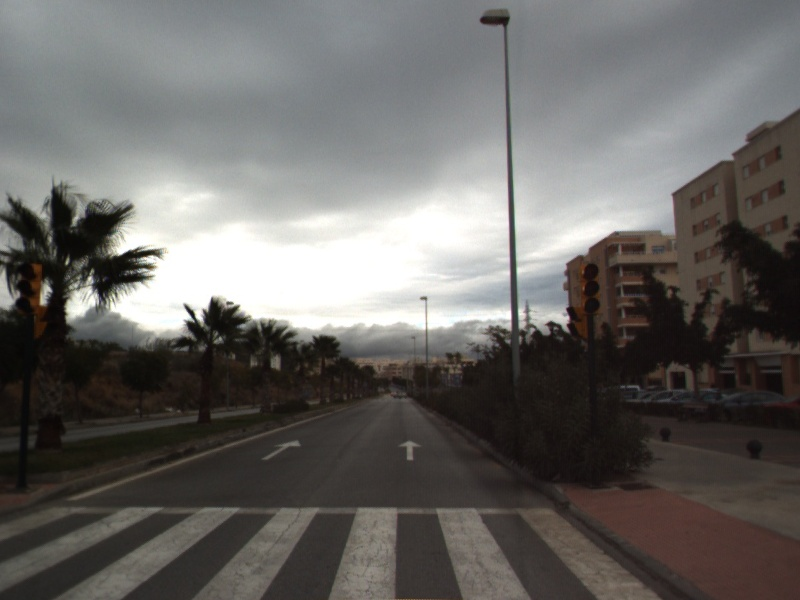STRAIGHT: (259, 438, 303, 462), (396, 438, 424, 462)
